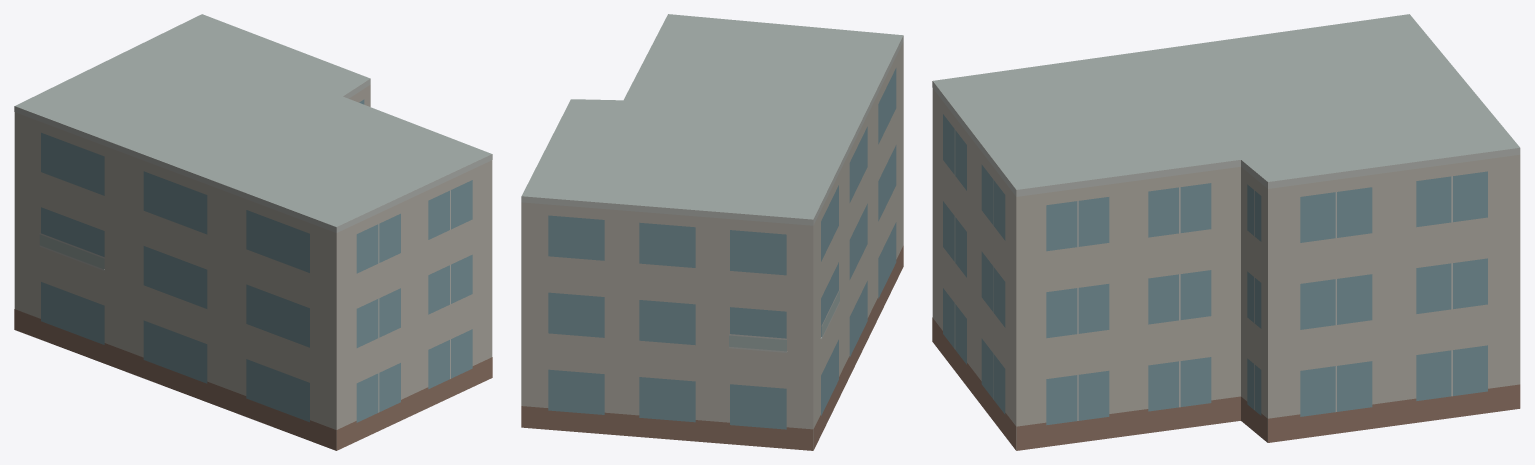
Rendered from survey-upis-32692466.glb.
3 renders of one model, left to right at view 1: azimuth 30°, elevation 25°; view 2: azimuth 150°, elevation 25°; view 3: azimuth 270°, elevation 25°, orthographic. The views are drawn at different scales.
Visible parts, largest first — view 1: survey-upis-32692466.tmp; view 2: survey-upis-32692466.tmp; view 3: survey-upis-32692466.tmp.
Boxes of the visible parts, x1,y1,x2,y2 form: survey-upis-32692466.tmp: (14,14,492,450); survey-upis-32692466.tmp: (521,14,903,450); survey-upis-32692466.tmp: (932,14,1520,450).
Size of the model in its own units: 13.24 by 9.15 by 18.69.
